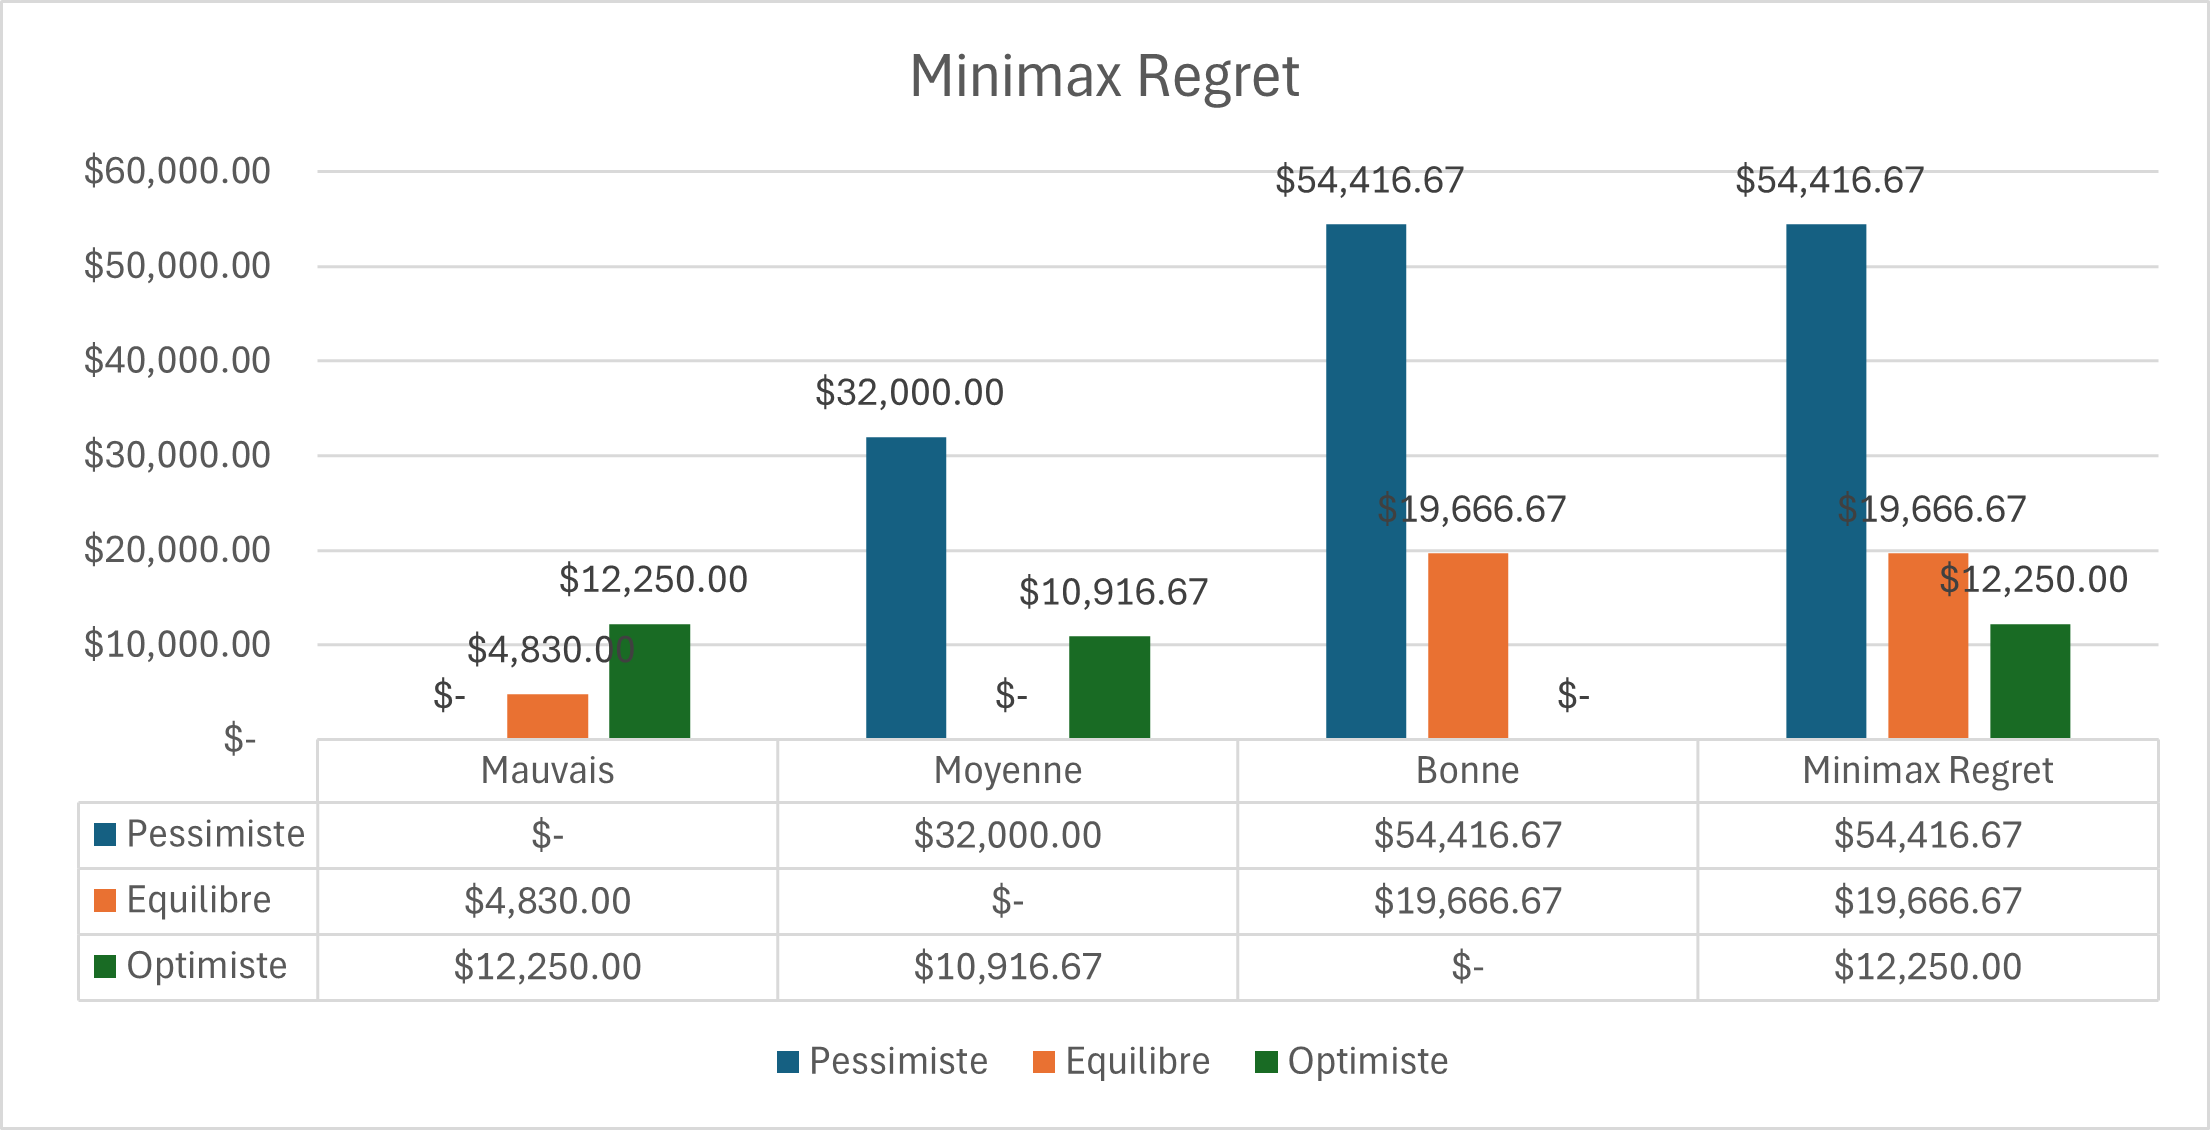

What the dashboard file says about the page in this screenshot:
{"tool":"tableau","page":{"name":"Dashboard 2","canvas":[1000,800],"ordinal":1},"visuals":[{"type":"worksheet","title":"Sheet 4","mark":"Automatic","rows":["ORIGIN","DEST","FL_DATE","FL_DATE","FL_DATE"],"cols":["AIRLINE_CODE"],"box":[8,8,984,784]}]}

Visuals, with their boxes on the page's 1000x800 design canvas (x1, y1, x2, y2). These are canvas units, not pixel positions in the 2210x1130 screenshot, which may show the page scaled, cropped or inside an application window:
"Sheet 4" worksheet: box(8, 8, 992, 792)
